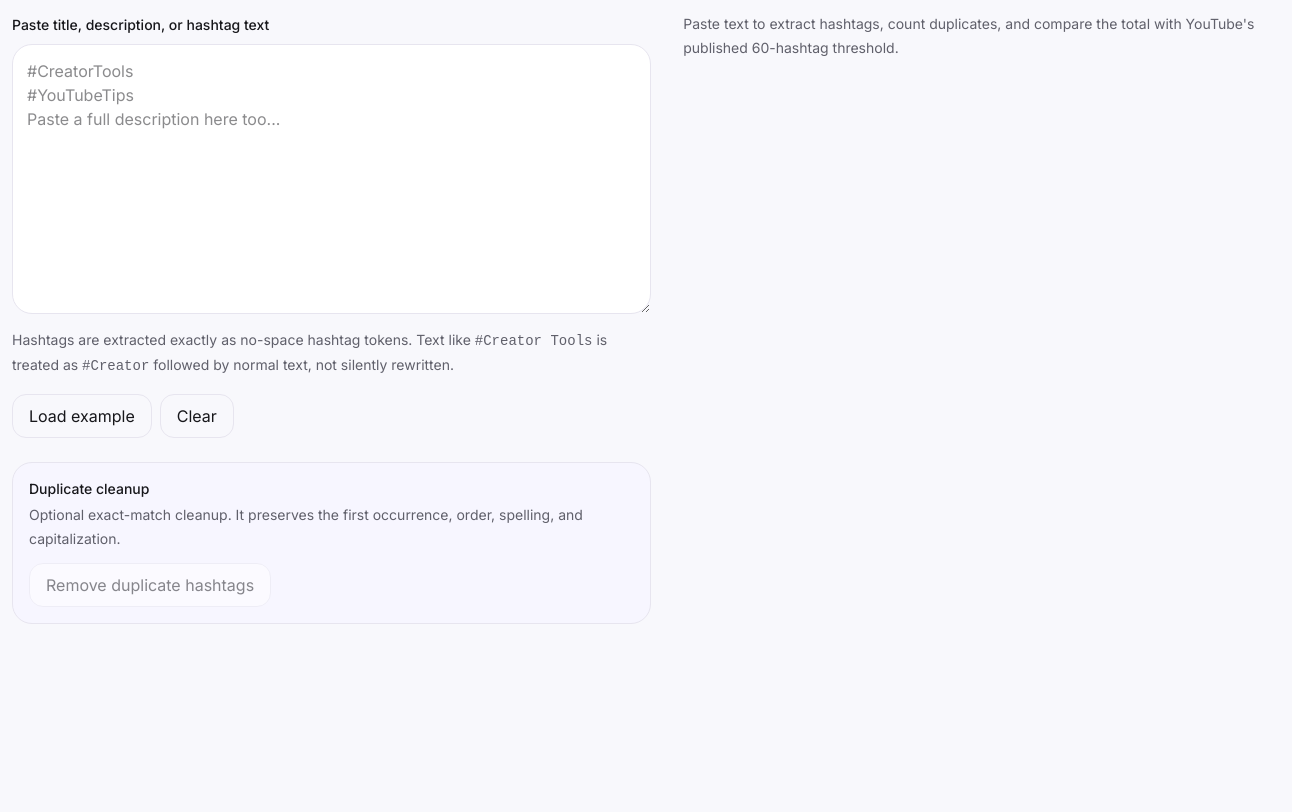
Scenario: YoutubeHashtagChecker › counts duplicates and removes them with first occurrence order preserved
Step 1. Replace the text in the text box labelled "Paste title, description, or hashtag text" with "#B #A #B #A #a" → (332, 179), box [12,44,651,314]
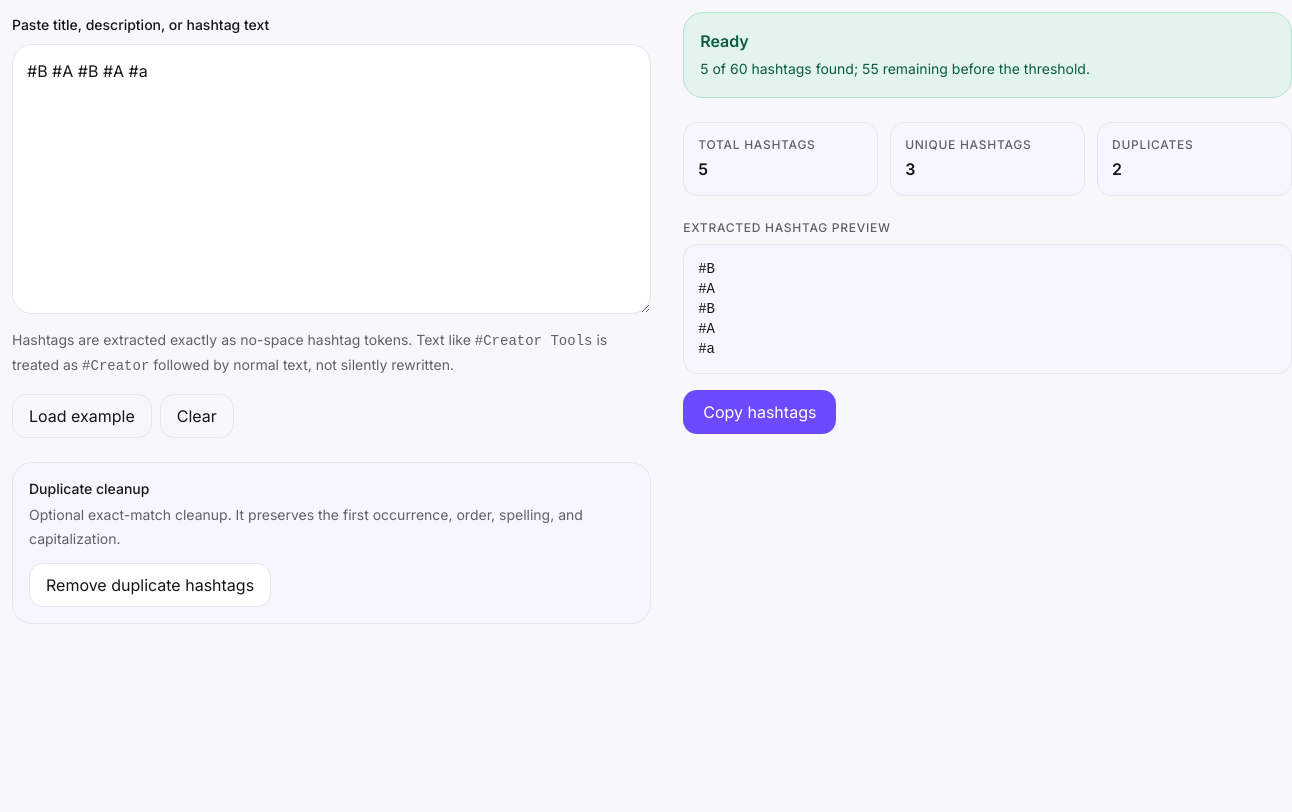
Step 2. Click the button "Remove duplicate hashtags" → (150, 585), box [29,563,271,607]
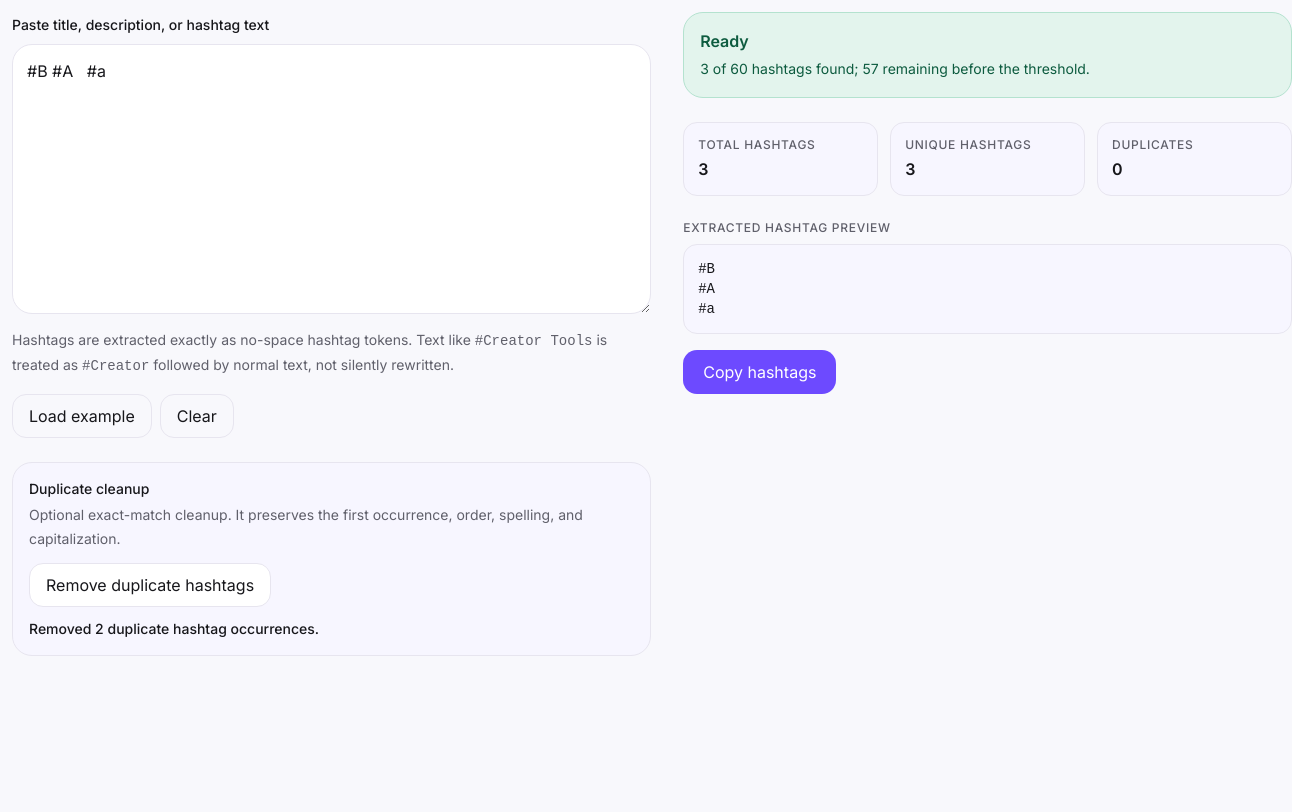
Expected: the text box labelled "Paste title, description, or hashtag text" holds "#B #A   #a", [12,44,651,314]
Step 3. Click the button "Remove duplicate hashtags" → (150, 585), box [29,563,271,607]
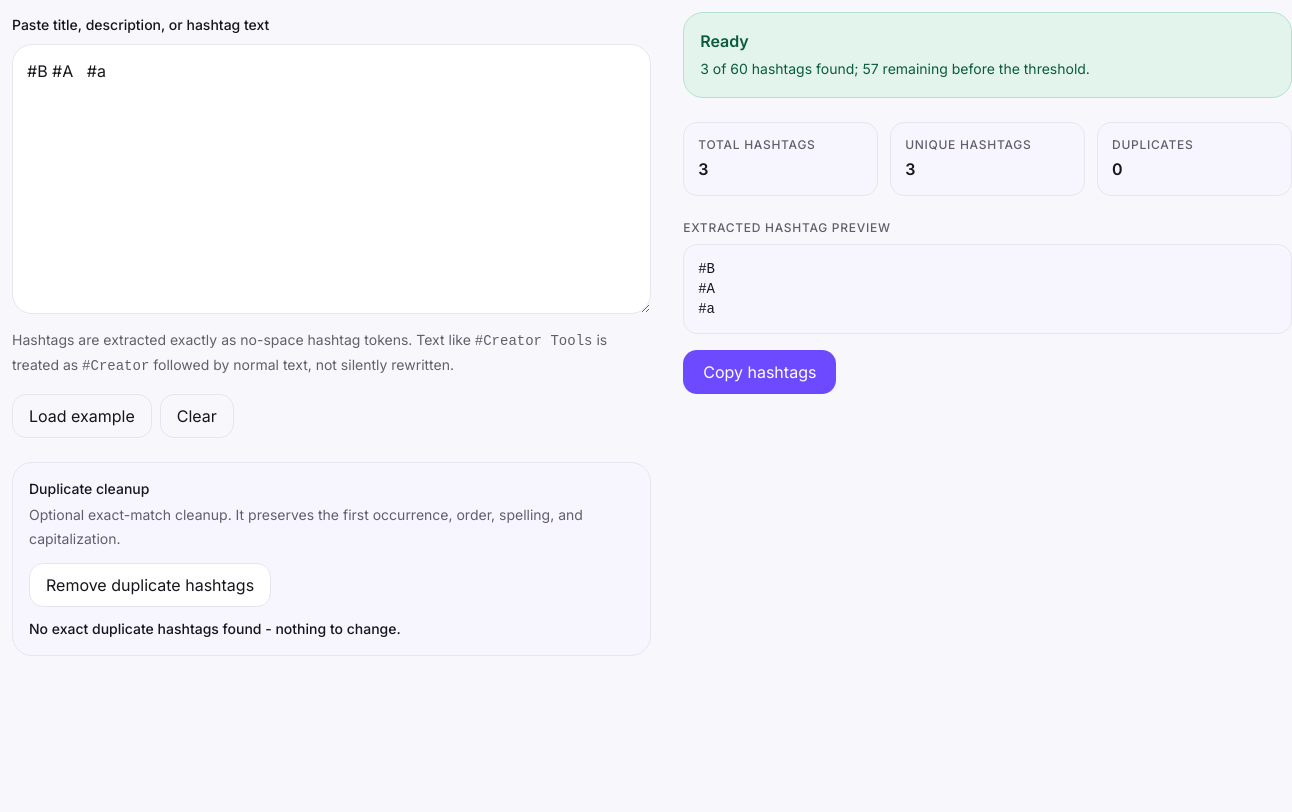
Expected: the text box labelled "Paste title, description, or hashtag text" holds "#B #A   #a", [12,44,651,314]
Expected: the text "No exact duplicate hashtags found - nothing to change." is shown, [29,620,401,637]
